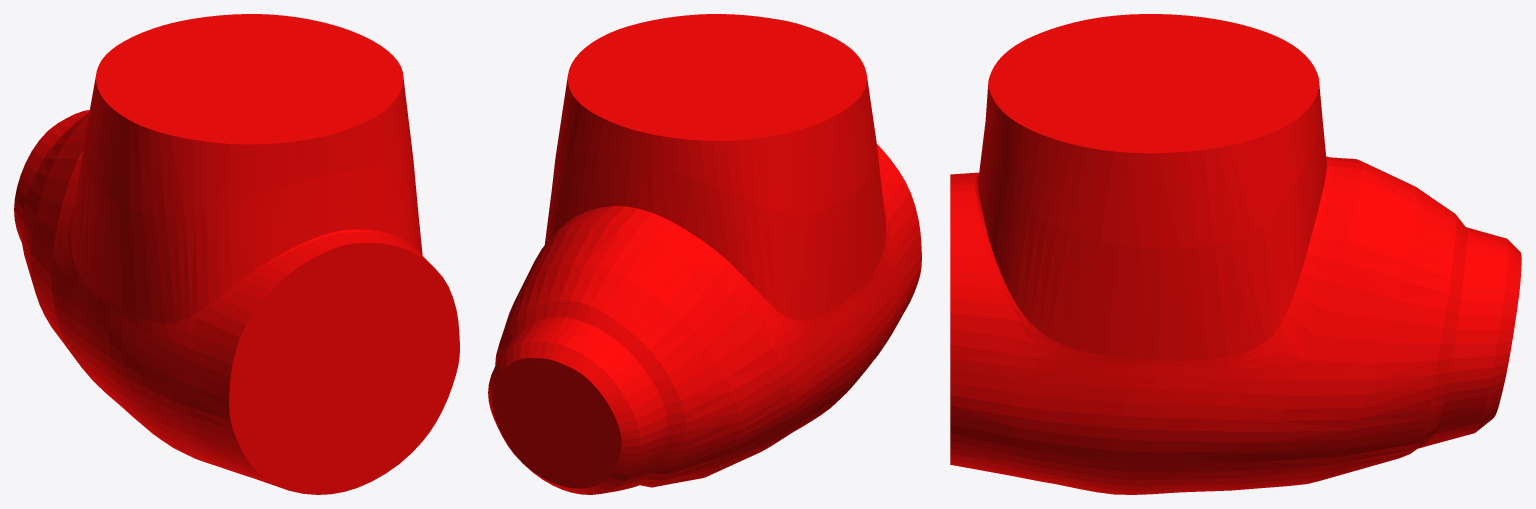
3 views of the same model, side by side, from view 1: azimuth 30°, elevation 25°; view 2: azimuth 150°, elevation 25°; view 3: azimuth 270°, elevation 25° (orthographic). The views are drawn at different scales.
Visible parts, largest first — view 1: MF0617_5_0; view 2: MF0617_5_0; view 3: MF0617_5_0.
Boxes of the visible parts, x1,y1,x2,y2 form: MF0617_5_0: [14, 14, 459, 494]; MF0617_5_0: [488, 14, 921, 494]; MF0617_5_0: [950, 14, 1521, 494].
Size of the model in its own units: 107 by 174 by 133.
